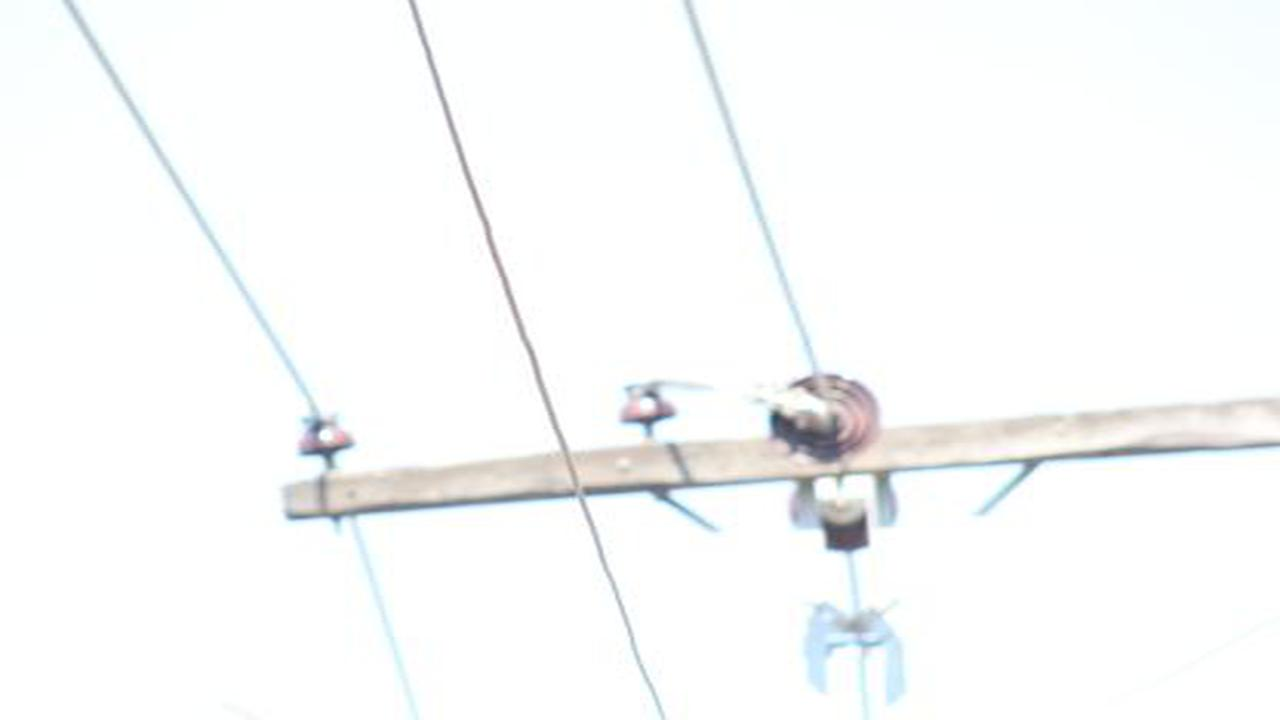insulator_disc: (770, 373, 885, 468)
insulator_pin: (612, 377, 677, 446), (300, 411, 360, 462)
